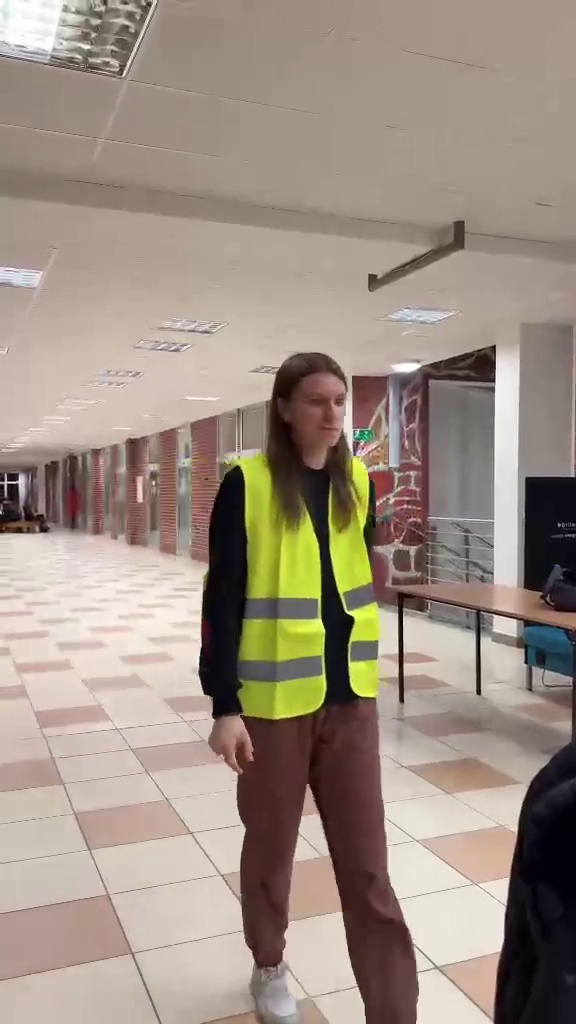vest: (216, 341, 414, 952)
